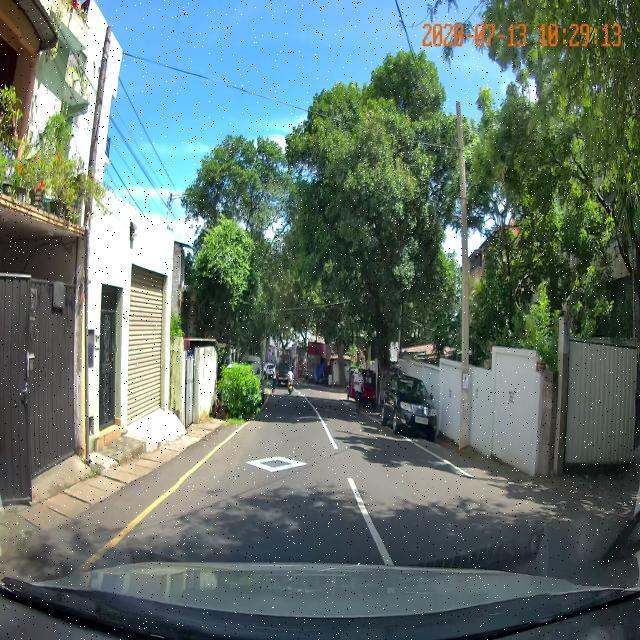diamond: (180, 443, 364, 504)
